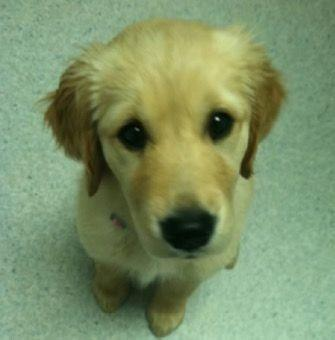puppy-dog: (35, 18, 287, 336)
